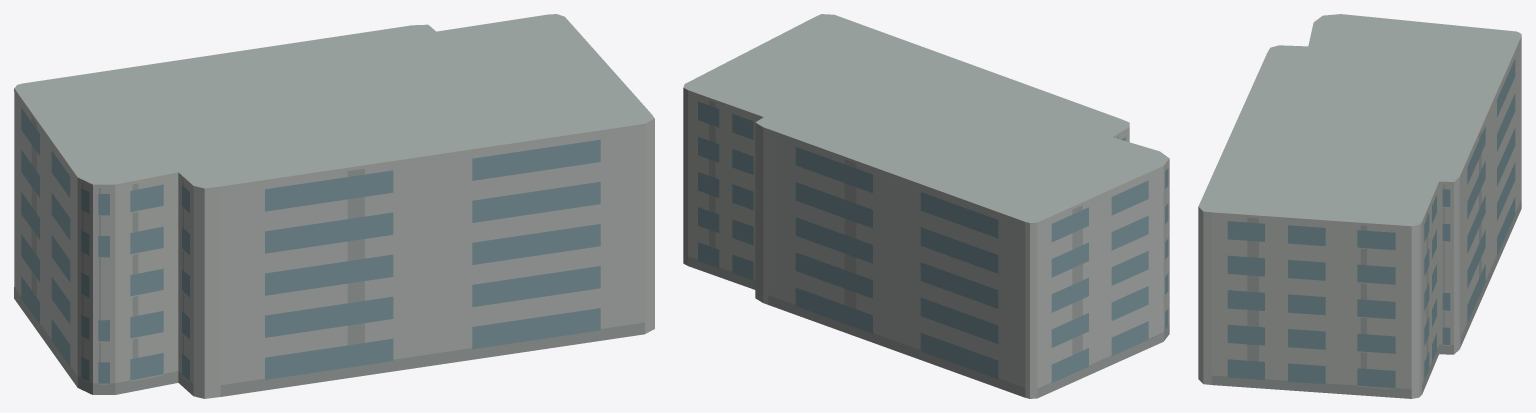
File: survey-upis-32697826.glb
The picture shows the model from 3 angles, left to right: view 1: azimuth 30°, elevation 25°; view 2: azimuth 150°, elevation 25°; view 3: azimuth 270°, elevation 25°; orthographic projection. The views are drawn at different scales.
Parts seen in each view (by area): view 1: survey-upis-32697826.tmp; view 2: survey-upis-32697826.tmp; view 3: survey-upis-32697826.tmp.
Boxes of the visible parts, bbox=[...] form: survey-upis-32697826.tmp: bbox=[14, 14, 654, 398]; survey-upis-32697826.tmp: bbox=[683, 14, 1169, 398]; survey-upis-32697826.tmp: bbox=[1198, 14, 1521, 398].
Bounding box in the file's own units: 40.2 × 15.25 × 25.87.
